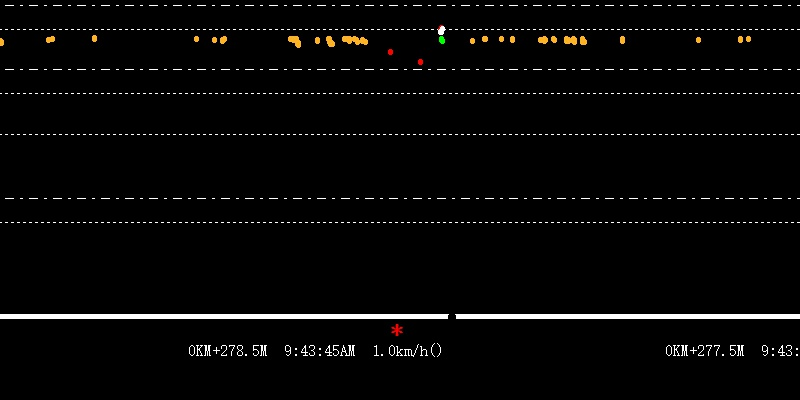face_s: (434, 21, 444, 48)
star: (386, 318, 405, 338)
